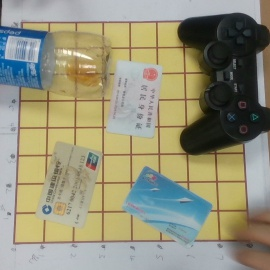card: (120, 165, 212, 253), (35, 140, 103, 231), (105, 58, 161, 140)
remote: (178, 11, 270, 155)
